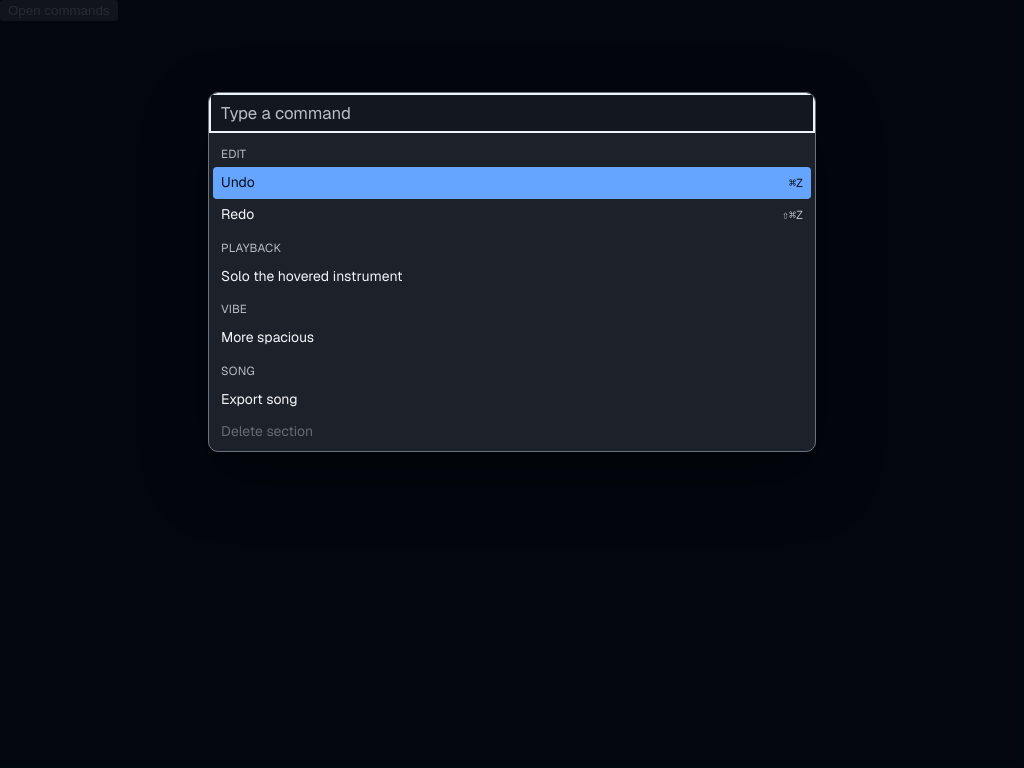
Test: CommandPalette › closes when an option is chosen, after reporting it
What coordinates should you click on to do the following:
click the option "Export song"
I would click on:
 (259, 399)
Its box is [221, 390, 298, 408].
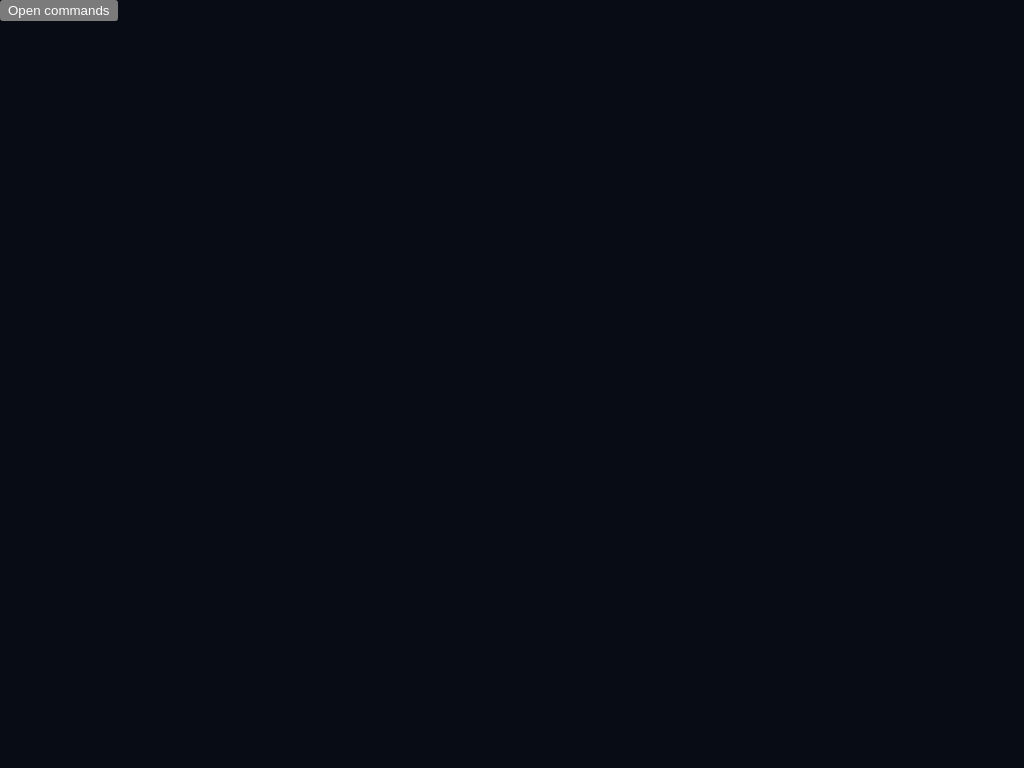
Now the list is gone
